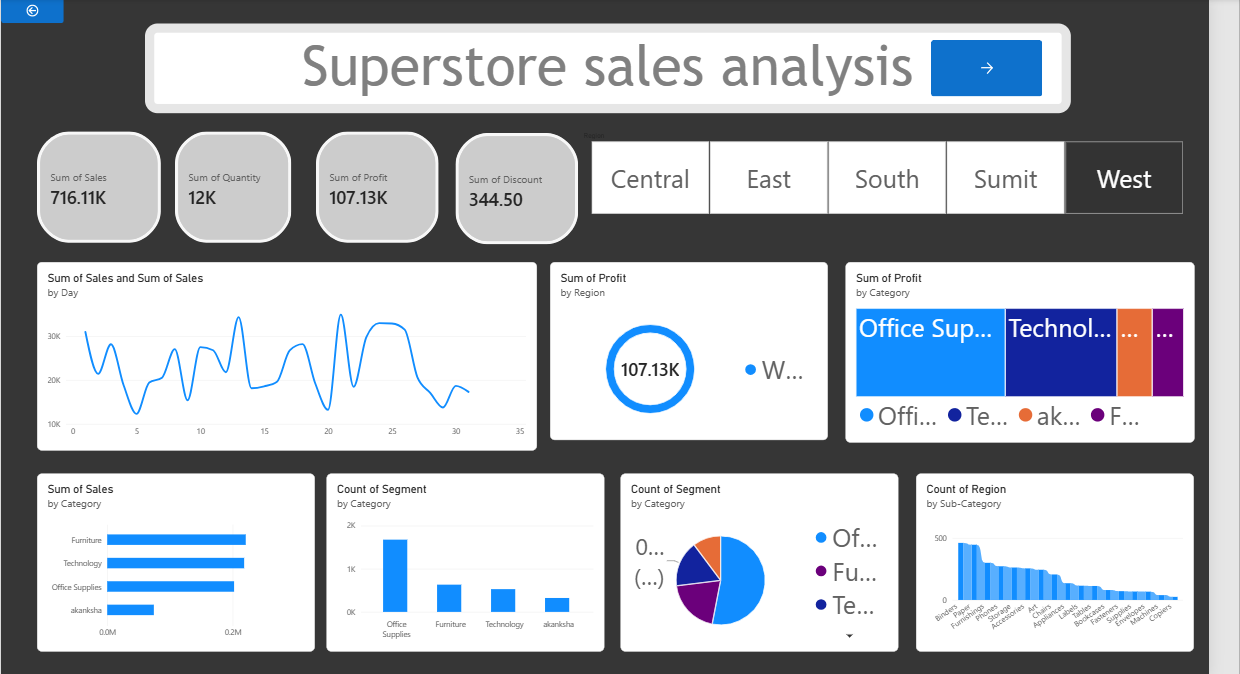

The page's visual inventory and layout, read from the dashboard file:
{"tool":"powerbi","page":{"name":"Page 1","canvas":[1920,1080],"ordinal":0},"visuals":[{"type":"barChart","fields":{"Category":["Orders.Category"],"Y":["Sum(Orders.Sales)"]},"box":[56.7,756.9,442.2,283.5],"z":0},{"type":"clusteredColumnChart","fields":{"Category":["Orders.Category"],"Y":["CountNonNull(Orders.Segment)"]},"box":[518.7,756.9,442.2,283.5],"z":1000},{"type":"pieChart","fields":{"Category":["Orders.Category"],"Y":["CountNonNull(Orders.Segment)"]},"box":[986.5,756.9,442.2,283.5],"z":2000},{"type":"ribbonChart","fields":{"Category":["Orders.Sub-Category"],"Y":["CountNonNull(Orders.Region)"]},"box":[1455,757.5,442.2,283.5],"z":3000},{"type":"lineChart","fields":{"Category":["Orders.Order Date.Variation.Date Hierarchy.Year","Orders.Order Date.Variation.Date Hierarchy.Quarter","Orders.Order Date.Variation.Date Hierarchy.Month","Orders.Order Date.Variation.Date Hierarchy.Day"],"Y":["Sum(Orders.Sales)"]},"box":[57.5,420,795,300],"z":4000},{"type":"donutChart","fields":{"Category":["Orders.Region"],"Y":["Sum(Orders.Profit)"]},"box":[872.5,420,442.2,283.5],"z":5000},{"type":"actionButton","box":[0,0,100,40],"z":6000},{"type":"treemap","fields":{"Group":["Orders.Category"],"Values":["Sum(Orders.Profit)"]},"box":[1342.5,420,555,287.5],"z":7000},{"type":"cardVisual","fields":{"Data":["Sum(Orders.Sales)"]},"box":[57.5,212.5,197.5,177.5],"z":8000},{"type":"cardVisual","fields":{"Data":["Sum(Orders.Quantity)"]},"box":[277.5,212.5,185,177.5],"z":9000},{"type":"cardVisual","fields":{"Data":["Sum(Orders.Profit)"]},"box":[500,212.5,195,177.5],"z":10000},{"type":"cardVisual","fields":{"Data":["Sum(Orders.Discount)"]},"box":[722.5,215,195,177.5],"z":11000},{"type":"textbox","box":[230,40,1472.5,142.5],"z":12000},{"type":"slicer","fields":{"Values":["Orders.Region"]},"box":[917.5,212.5,980,132.5],"z":13000},{"type":"actionButton","box":[1479.5,66.7,176.9,89.7],"z":14000}]}

Visuals, with their boxes in screenshot pixels (x1, y1, x2, y2):
barChart - Orders.Category x Sum(Orders.Sales): l=33, t=474, r=316, b=655
clusteredColumnChart - Orders.Category x CountNonNull(Orders.Segment): l=328, t=474, r=611, b=655
pieChart - Orders.Category x CountNonNull(Orders.Segment): l=627, t=474, r=910, b=655
ribbonChart - Orders.Sub-Category x CountNonNull(Orders.Region): l=926, t=474, r=1209, b=655
lineChart - Orders.Order Date.Variation.Date Hierarchy.Year x Orders.Order Date.Variation.Date Hierarchy.Quarter: l=34, t=259, r=541, b=450
donutChart - Orders.Region x Sum(Orders.Profit): l=554, t=259, r=837, b=440
actionButton: l=0, t=0, r=61, b=16
treemap - Orders.Category x Sum(Orders.Profit): l=855, t=259, r=1209, b=442
cardVisual - Sum(Orders.Sales): l=34, t=126, r=160, b=239
cardVisual - Sum(Orders.Quantity): l=174, t=126, r=292, b=239
cardVisual - Sum(Orders.Profit): l=316, t=126, r=441, b=239
cardVisual - Sum(Orders.Discount): l=458, t=128, r=583, b=241
textbox: l=144, t=16, r=1085, b=107
slicer - Orders.Region: l=583, t=126, r=1209, b=211
actionButton: l=942, t=33, r=1055, b=90
